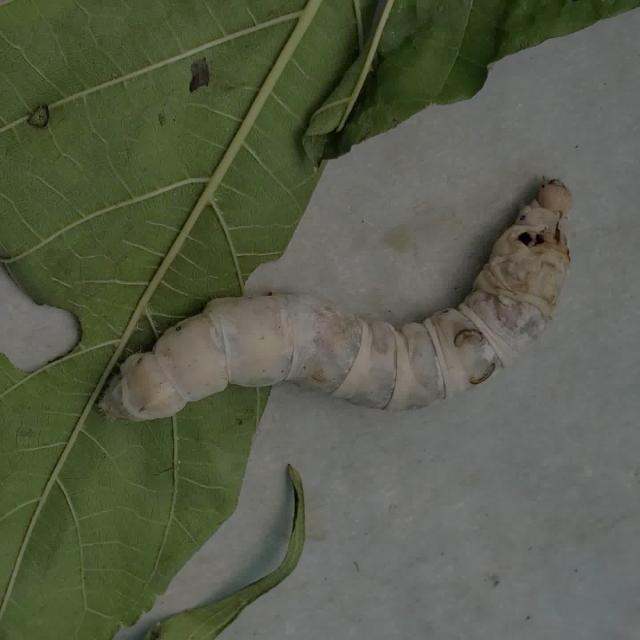Grasserie: (91, 106, 598, 502)
